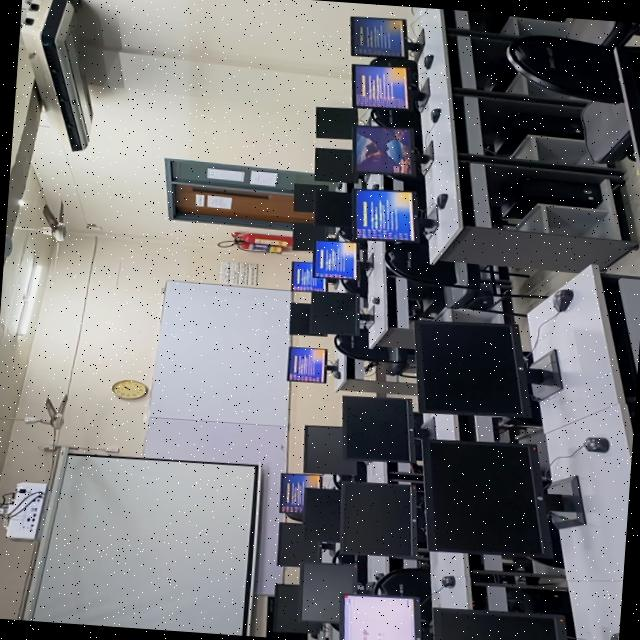Ac: (20, 0, 91, 150)
Chair: (506, 35, 635, 162), (384, 241, 540, 313), (334, 329, 414, 374), (564, 16, 615, 43)
Cpu: (480, 98, 582, 154), (489, 169, 601, 217), (484, 55, 517, 91)
Fire Extinguisher: (217, 231, 290, 253), (233, 231, 292, 246)
Light: (15, 263, 41, 335)
Monitor: (424, 439, 585, 566), (414, 320, 561, 422), (340, 481, 426, 559), (343, 395, 434, 462), (434, 607, 567, 640), (340, 593, 420, 640), (300, 562, 356, 622), (354, 189, 416, 240), (614, 46, 640, 167), (355, 125, 414, 174), (351, 16, 422, 56), (304, 425, 356, 474), (352, 64, 409, 107), (273, 583, 320, 633), (310, 290, 361, 335), (277, 521, 322, 566), (302, 487, 339, 541), (287, 346, 337, 382), (266, 596, 306, 640), (312, 240, 358, 278), (280, 472, 320, 513), (314, 147, 359, 182), (314, 190, 350, 228), (315, 106, 357, 138), (289, 301, 327, 335), (292, 222, 334, 250), (291, 260, 326, 291), (294, 183, 327, 211)
Mouse: (551, 289, 573, 311), (583, 436, 609, 452), (435, 192, 447, 208), (429, 107, 441, 122), (440, 575, 455, 587), (423, 53, 433, 68), (610, 631, 619, 640), (332, 369, 341, 378), (371, 296, 379, 303)
Projector: (0, 481, 46, 540)
